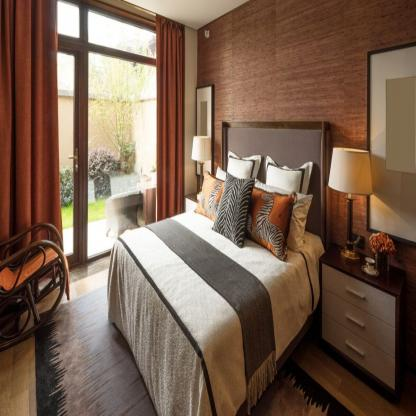Bed: (115, 126, 321, 413)
Lamp: (326, 136, 375, 261), (187, 127, 213, 207)
Nightstand: (317, 244, 410, 400)
